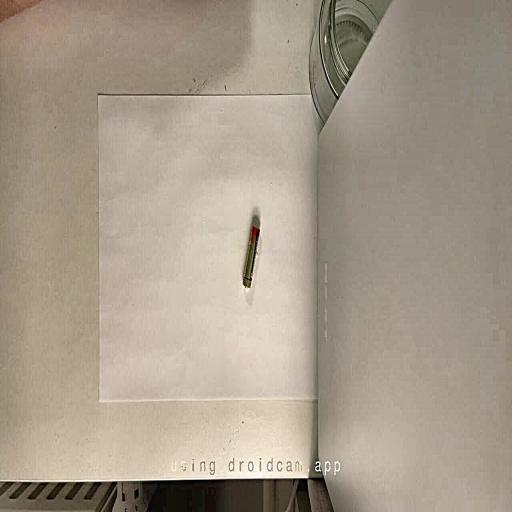PanasonicAAA: (242, 224, 260, 287)
